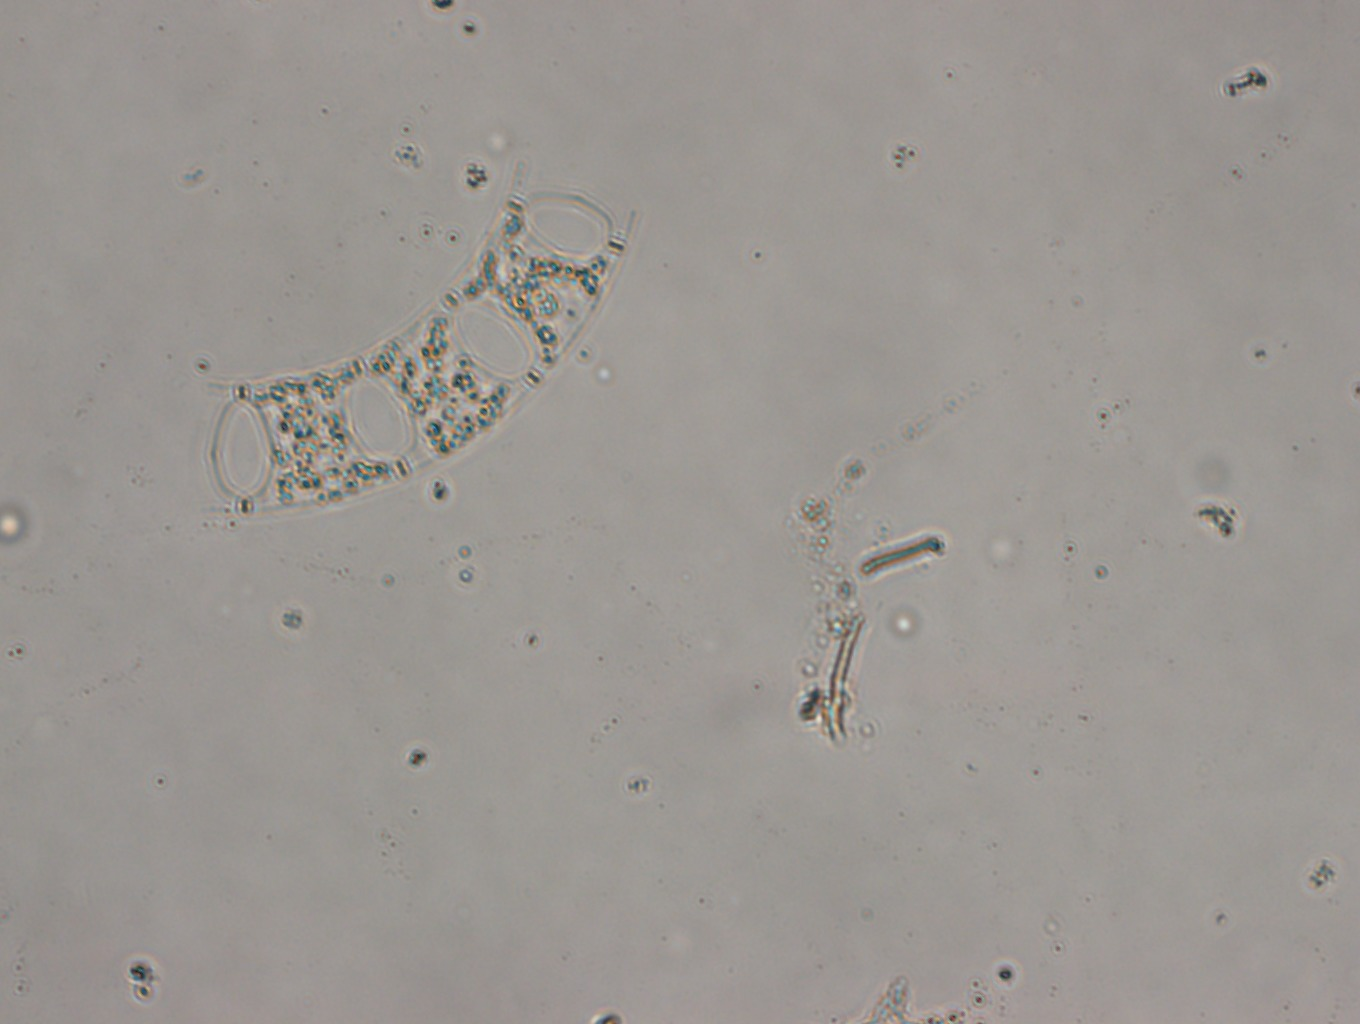eucampia: (187, 144, 640, 515)
